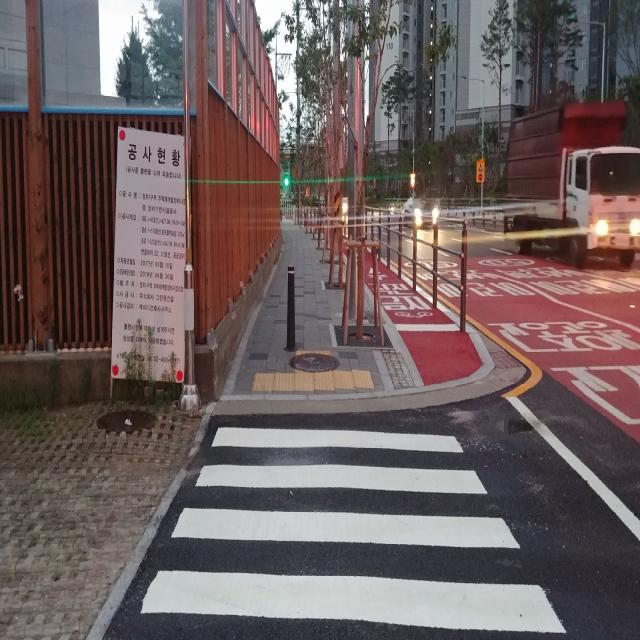횡단보도: (138, 423, 571, 640)
